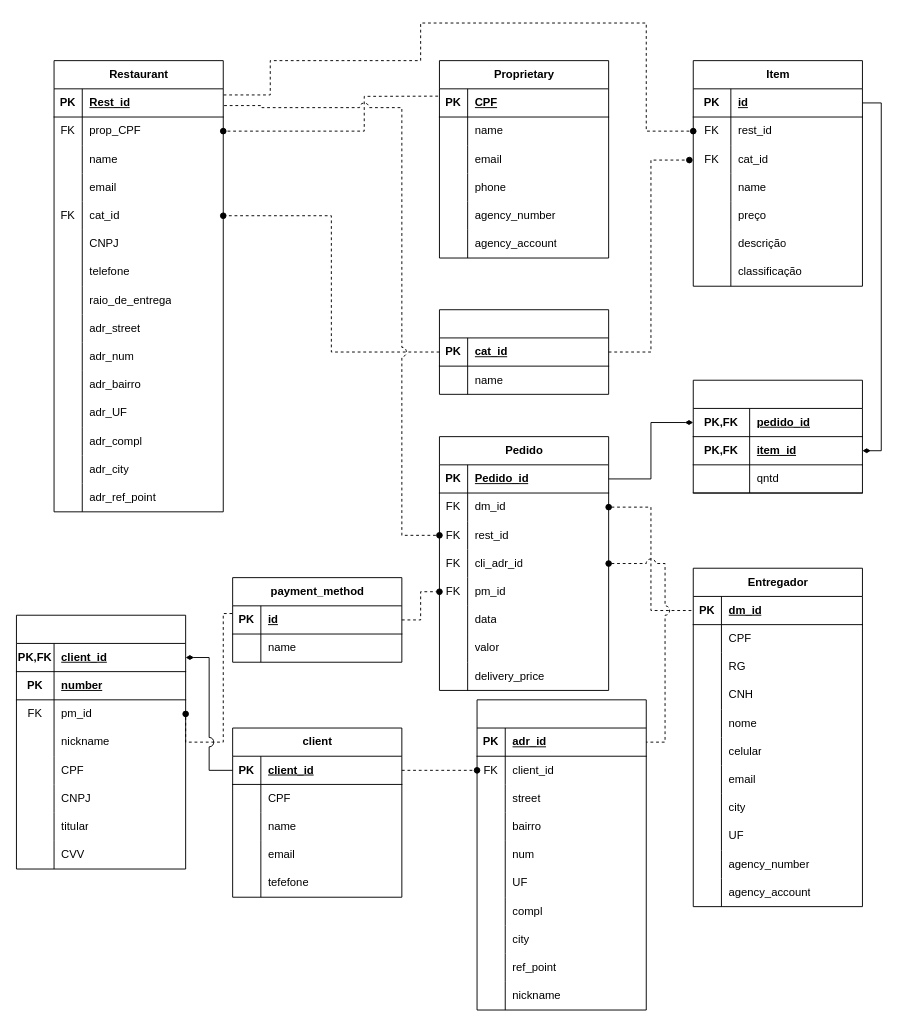
Some shapes in this 905 by 1026 pixel diagram are drawn without their labels. The box of each missing label's shape, as (x1, y1, x2, y2) in pixels:
Card: (16, 614, 186, 869)
category: (439, 309, 609, 394)
client_adress: (476, 699, 646, 1010)
item_pedido: (692, 379, 862, 493)
